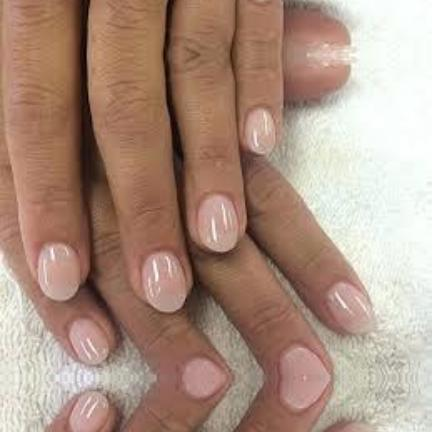Nail: (141, 251, 186, 311), (326, 281, 374, 334), (38, 242, 80, 300), (197, 192, 238, 251), (69, 317, 109, 365), (69, 390, 109, 432), (280, 347, 331, 376), (280, 379, 331, 408), (245, 106, 275, 153), (180, 357, 230, 376), (180, 379, 230, 398), (310, 54, 357, 64), (310, 44, 357, 54), (339, 421, 374, 432), (251, 0, 266, 2)
